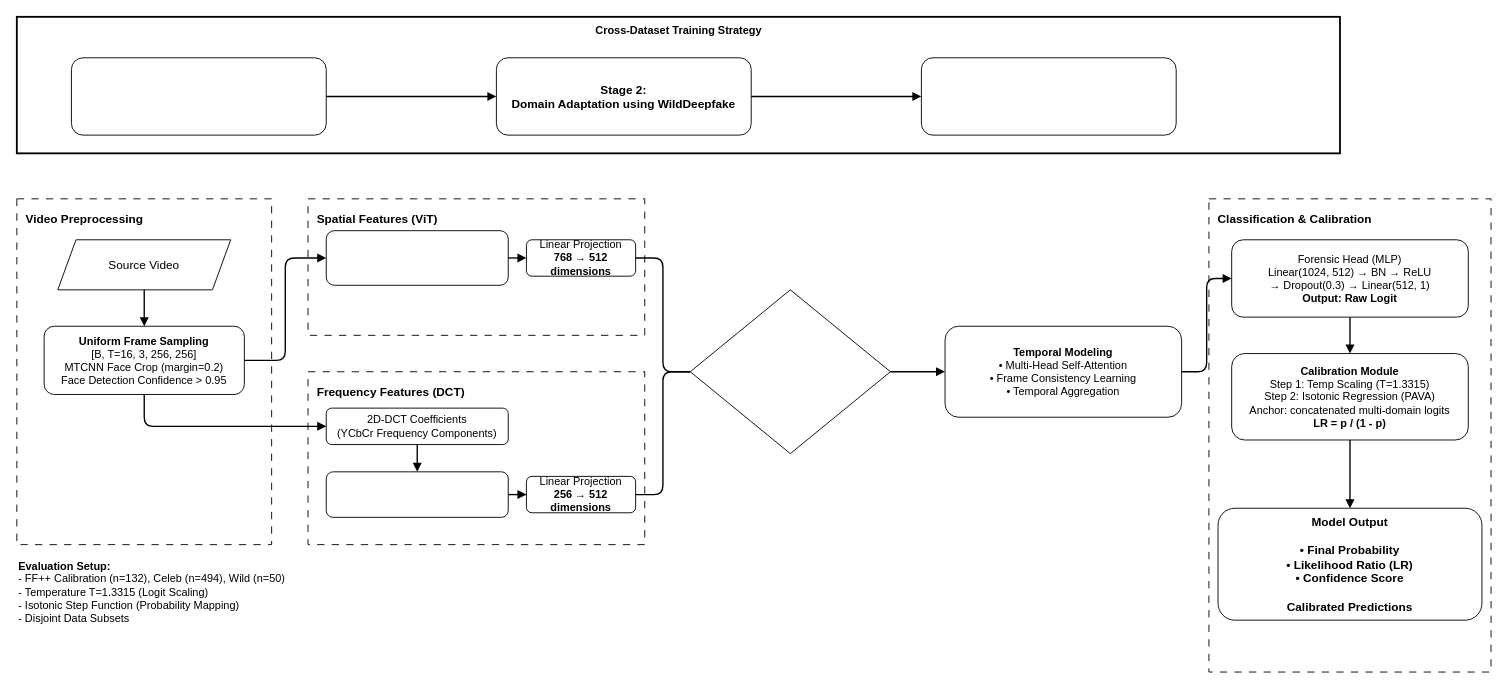
This 1507x688 diagram has some shape labels left out. Each missing label, with the centre of its shape:
Feature Fusion Spatial Features ⊕ Frequency Features 1024-D Representation: [789,371]
Lightweight Frequency CNN Raw embedding: 256-dim: [416,494]
Stage 1: Pretraining on FaceForensics++: [198,96]
Stage 3: Zero-Shot Evaluation on Celeb-DF-v2 Strictly Disjoint & Unseen: [1048,96]
vit base patch16_clip_224 Frozen Blocks: 0–7 Trainable Blocks: 8–11: [416,257]
